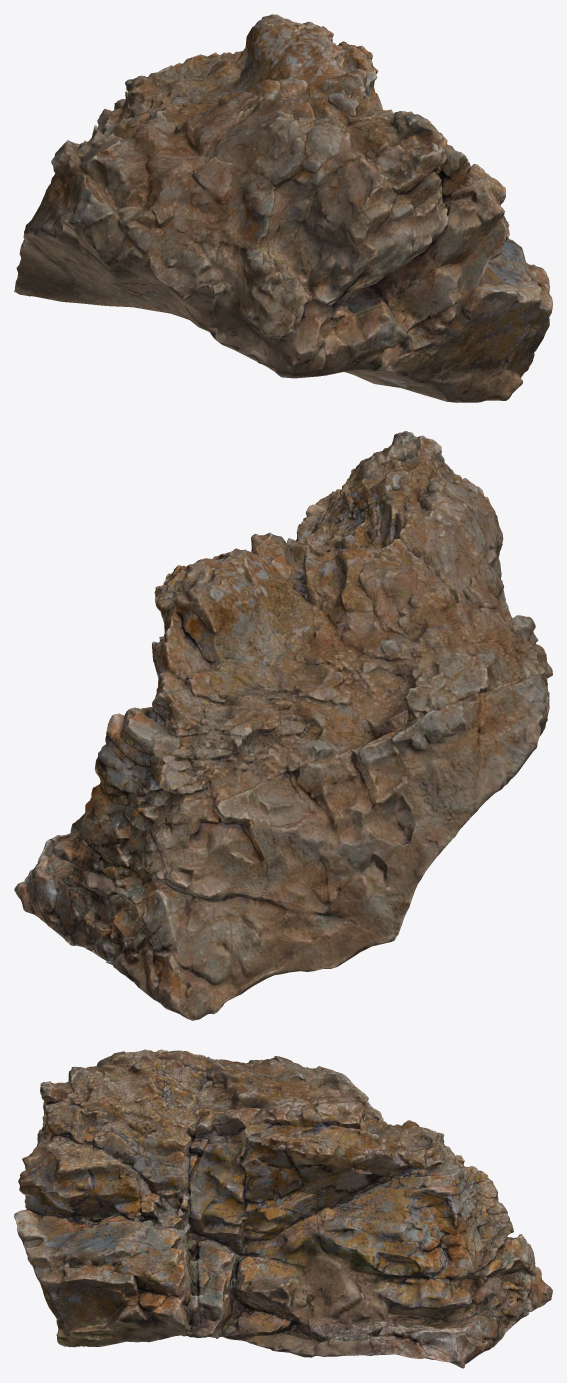
File: boulder_01.glb
3 renders of one model, top to bottom at view 1: azimuth 30°, elevation 25°; view 2: azimuth 150°, elevation 25°; view 3: azimuth 270°, elevation 25°, orthographic. The views are drawn at different scales.
Visible parts, largest first — view 1: boulder_01; view 2: boulder_01; view 3: boulder_01.
Boxes of the visible parts, box(x1,y1,x2,y2) form: boulder_01: box(14, 14, 552, 402); boulder_01: box(14, 431, 552, 1020); boulder_01: box(14, 1049, 552, 1368).
Bounding box in the file's own units: 1.27 × 1 × 1.83.
1 material, 1 textured.
